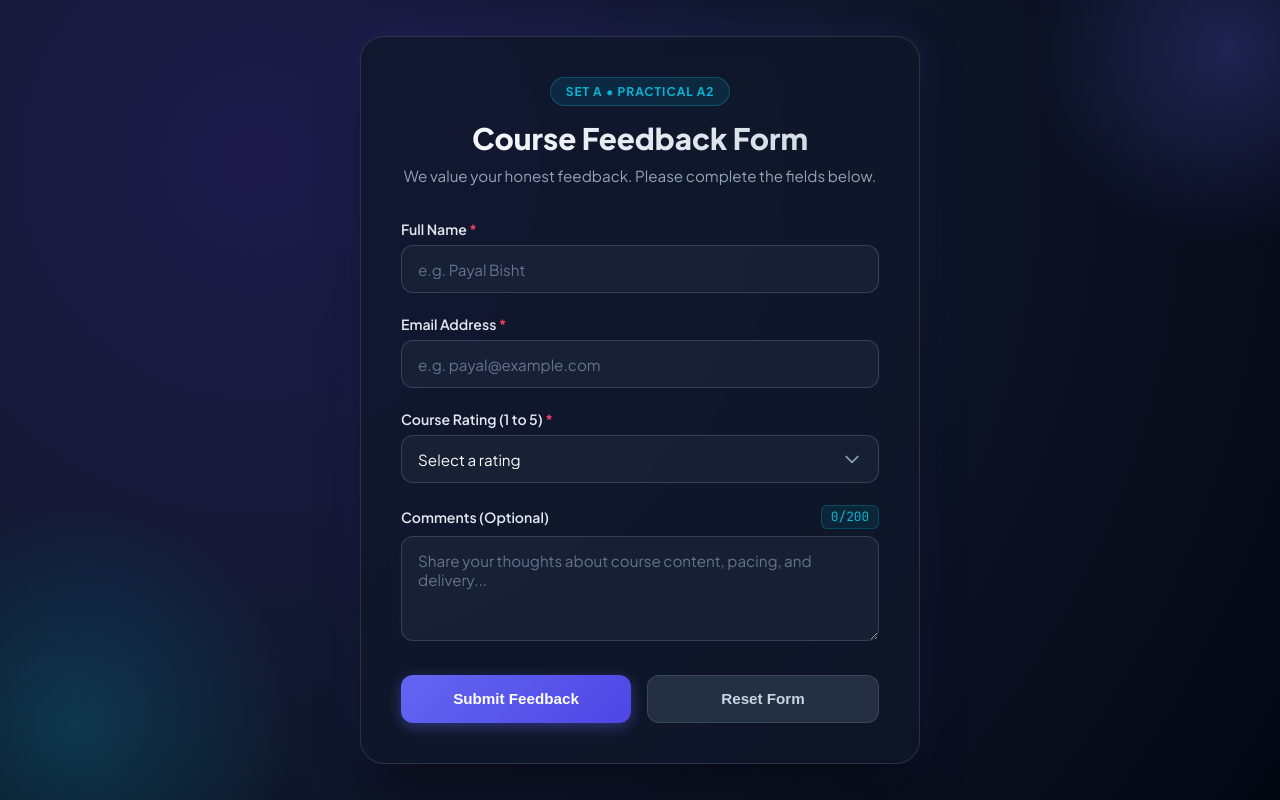
Test case: Practical A2: Feedback Form with Validation (React) › renders comment counter in exact form {n}/200 and updates dynamically
Expected: the text with test id "comment-count" reads "0/200", [821,505,879,529]
Type 15 characters
Replace the text in the text box with test id "comment-input" with "Great course work" at {"x": 640, "y": 588}, box [401,536,879,641]
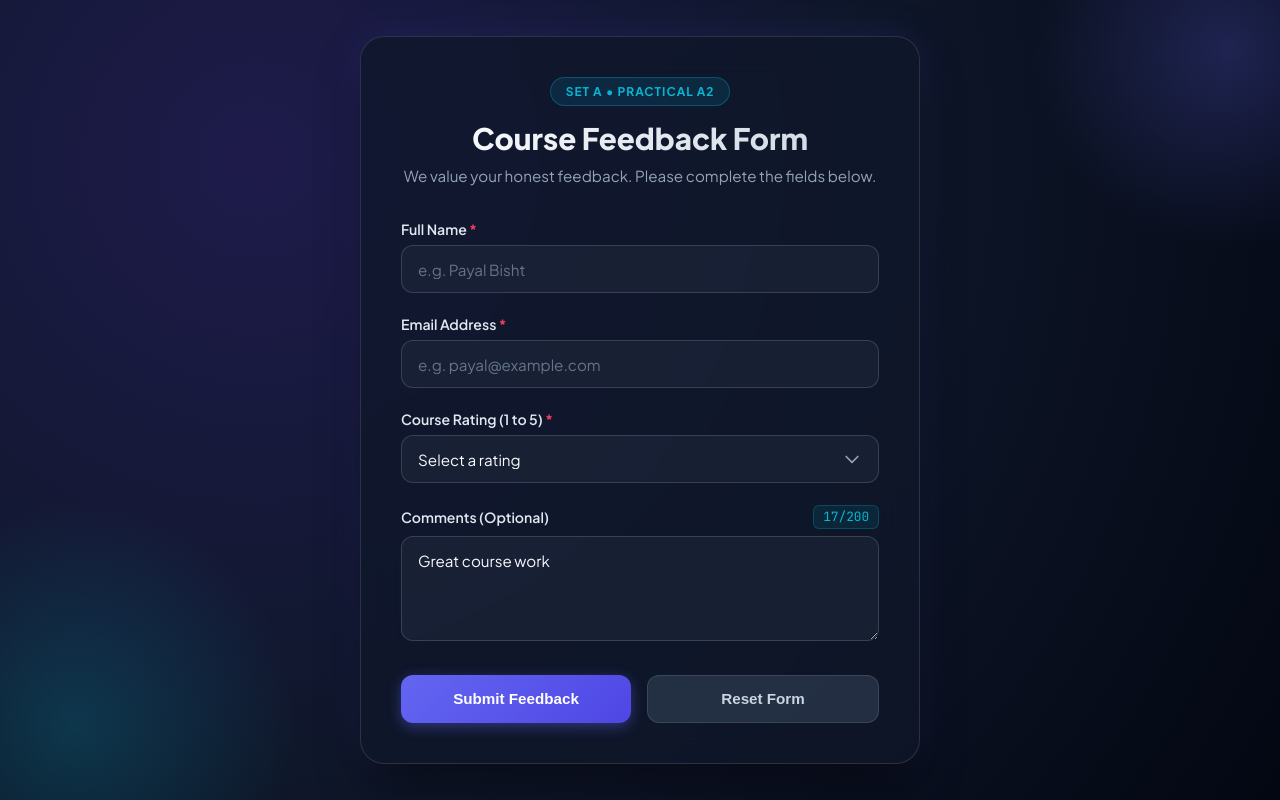
Clear comment
Clear the text box with test id "comment-input" at {"x": 640, "y": 588}, box [401,536,879,641]
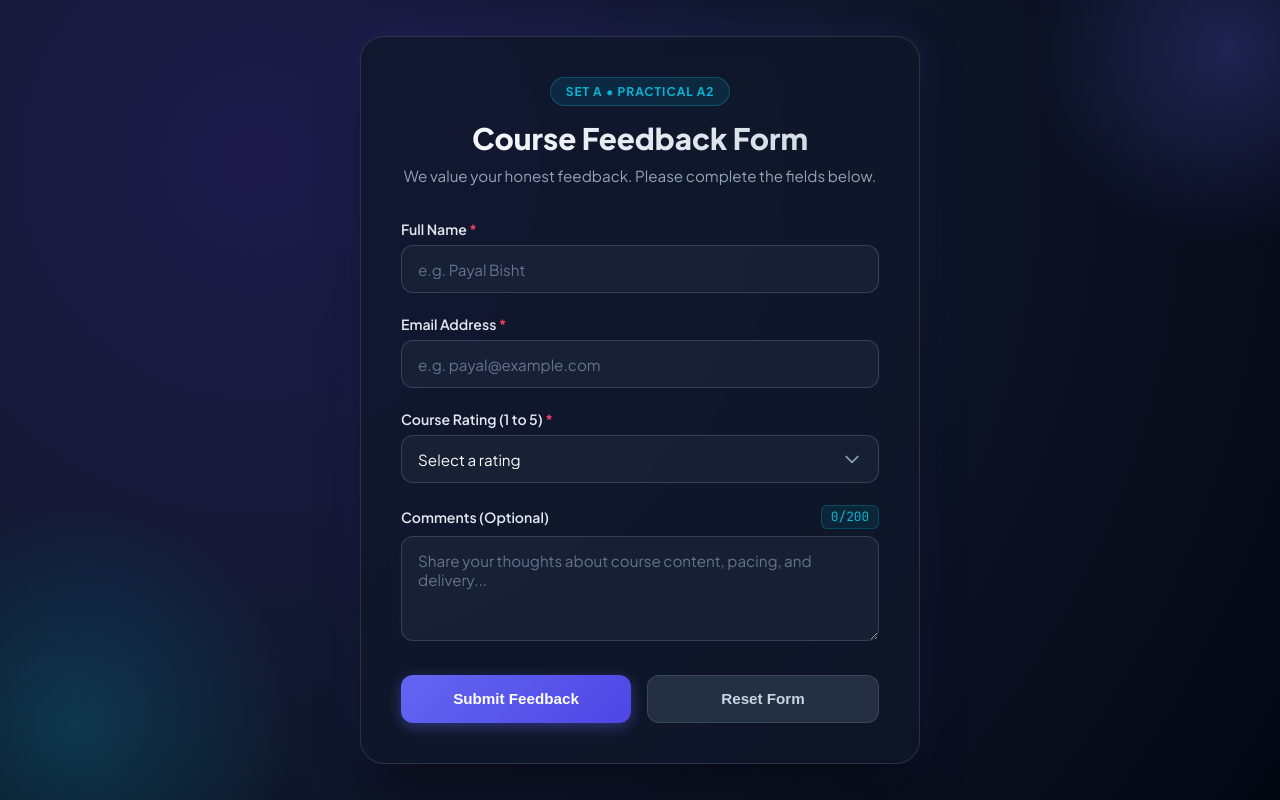
Now the text with test id "comment-count" reads "0/200", box [821,505,879,529]
